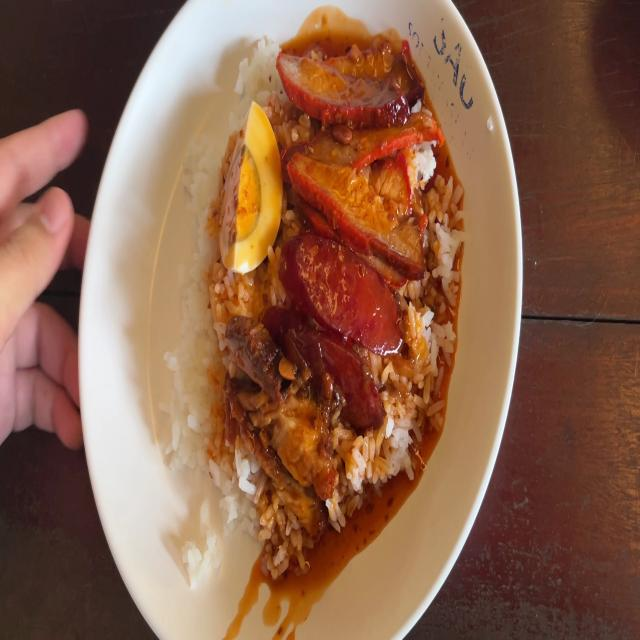01boiled_egg: (221, 107, 278, 272)
01chainese_sausage: (275, 241, 400, 420)
01crispy_pork: (260, 398, 332, 524), (227, 313, 277, 458)
01red_pork: (281, 50, 445, 252)
01red_pork_and_crispy_pork: (193, 47, 448, 545)
01rice: (176, 265, 228, 534), (331, 420, 418, 506), (234, 464, 258, 532)
